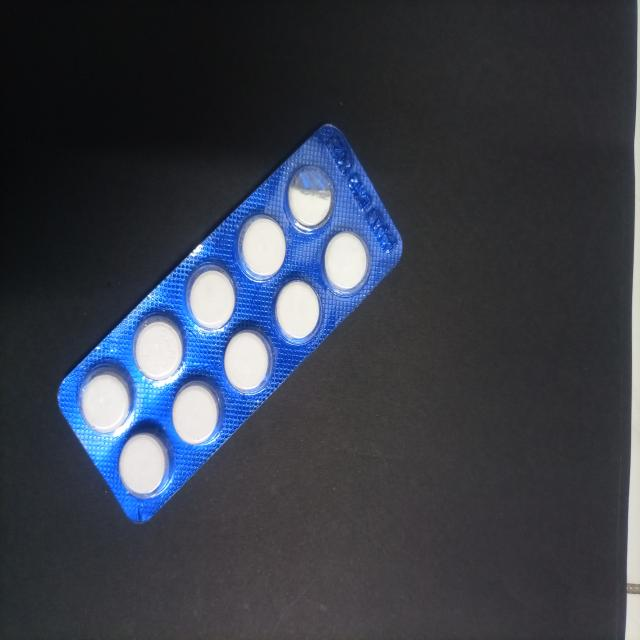defect: (284, 162, 336, 232)
